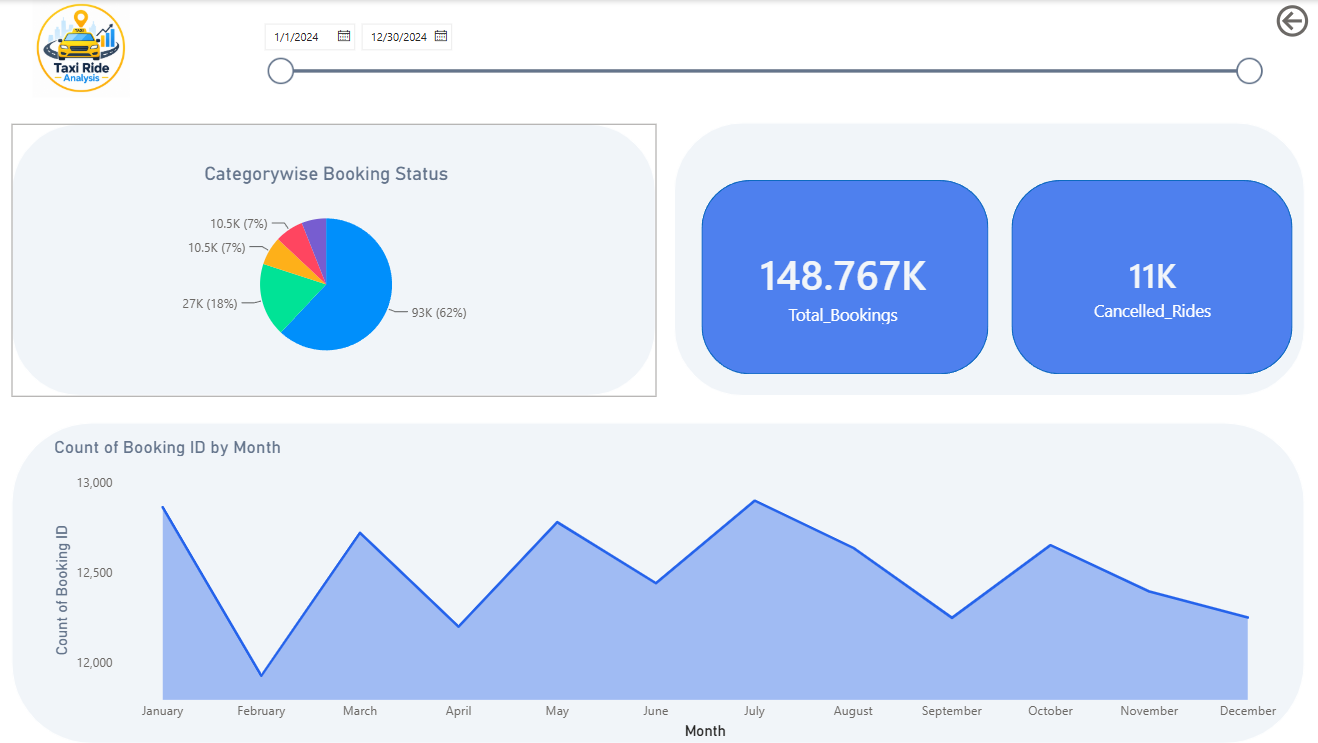

The dashboard page shown, as its layout file describes it:
{"tool":"powerbi","page":{"name":"Overall","canvas":[1280,720],"ordinal":1},"visuals":[{"type":"shape","box":[656.5,118.3,608.8,264],"z":0},{"type":"slicer","fields":{"Values":["rideBookings.Date"]},"box":[248.5,10.9,984.5,94.1],"z":1000},{"type":"shape","box":[17.3,119.7,621.8,262.6],"z":2000},{"type":"pieChart","title":"Categorywise Booking Status","fields":{"Category":["rideBookings.Booking Status"],"Y":["CountNonNull(rideBookings.Booking Status)"]},"box":[53.4,157.3,535.3,203.4],"z":3000},{"type":"shape","box":[682.4,173.1,277,187.6],"z":4000},{"type":"cardVisual","fields":{"Data":["Count(rideBookings.Booking ID)"]},"box":[698.5,220.8,242.5,109.8],"z":5000},{"type":"shape","box":[982.5,173.1,271.2,187.6],"z":6000},{"type":"cardVisual","fields":{"Data":["rideBookings.Cancelled_Rides"]},"box":[1000.1,225.6,236.6,102.4],"z":7000},{"type":"shape","box":[17.3,408.3,1248,310.2],"z":8000},{"type":"areaChart","fields":{"Category":["rideBookings.Date.Variation.Date Hierarchy.Month"],"Y":["CountNonNull(rideBookings.Booking ID)"]},"box":[53.4,421.3,1200.4,297.2],"z":9000},{"type":"actionButton","box":[1233.6,0,46.2,40.4],"z":10000},{"type":"image","box":[14.5,0,138.7,94.1],"z":11000}]}

Visuals, with their boxes in screenshot pixels (x1, y1, x2, y2), scaled from the page's 1280x720 canvas onto the 1318x743 screenshot:
shape: select_region(676, 122, 1303, 395)
slicer - rideBookings.Date: select_region(256, 11, 1270, 108)
shape: select_region(18, 124, 658, 395)
"Categorywise Booking Status" pieChart: select_region(55, 162, 606, 372)
shape: select_region(703, 179, 988, 372)
cardVisual - Count(rideBookings.Booking ID): select_region(719, 228, 969, 341)
shape: select_region(1012, 179, 1291, 372)
cardVisual - rideBookings.Cancelled_Rides: select_region(1030, 233, 1273, 338)
shape: select_region(18, 421, 1303, 741)
areaChart - rideBookings.Date.Variation.Date Hierarchy.Month x CountNonNull(rideBookings.Booking ID): select_region(55, 435, 1291, 741)
actionButton: select_region(1270, 0, 1317, 42)
image: select_region(15, 0, 158, 97)
